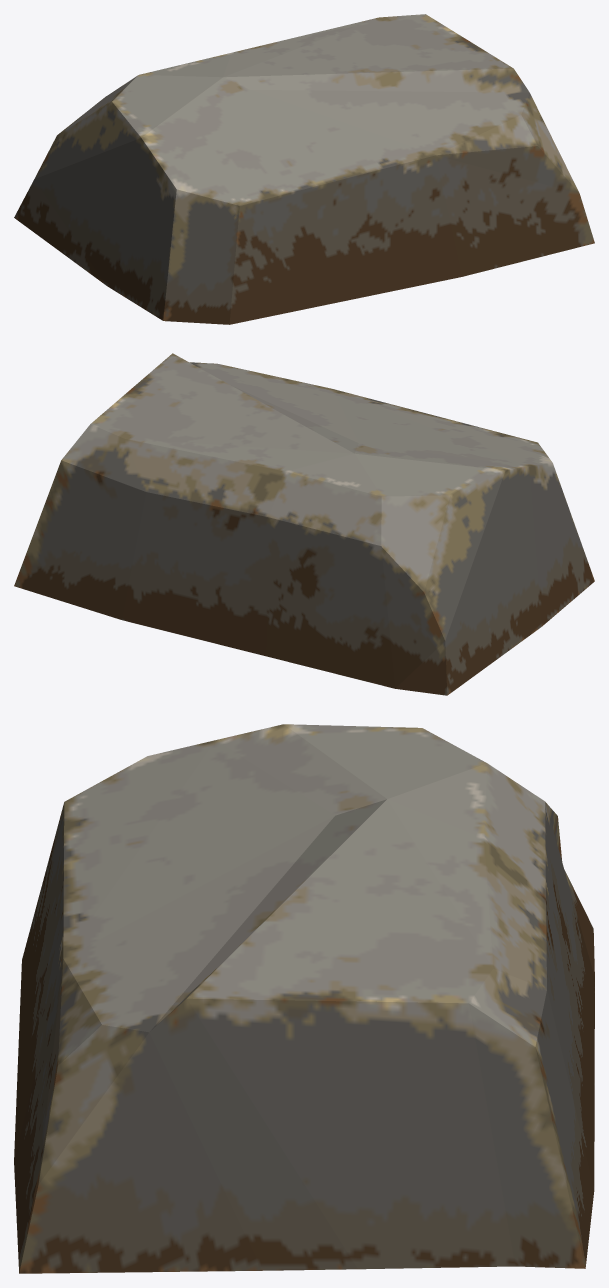
Rendered from Pebble_Square_2__go_coast.glb.
3 renders of one model, top to bottom at view 1: azimuth 30°, elevation 25°; view 2: azimuth 150°, elevation 25°; view 3: azimuth 270°, elevation 25°, orthographic. The views are drawn at different scales.
Visible parts, largest first — view 1: Pebble_Square_2; view 2: Pebble_Square_2; view 3: Pebble_Square_2.
Part boxes in pixels (left/top/right/bottom): Pebble_Square_2: left=14, top=14, right=594, bottom=324; Pebble_Square_2: left=14, top=353, right=594, bottom=695; Pebble_Square_2: left=14, top=724, right=594, bottom=1273.
Size of the model in its own units: 0.3911 by 0.1404 by 0.2803.
1 material, 1 textured.
